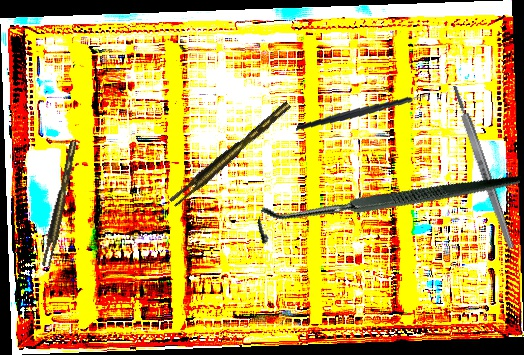Chopper: (296, 71, 433, 145)
Hook Surgical: (250, 98, 523, 318)
Scalpel Handle: (450, 84, 516, 250)
Tissue Forceps: (165, 101, 297, 208), (37, 140, 84, 268)
